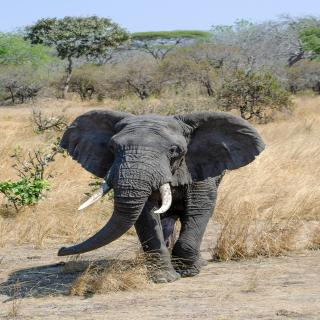Elephant: (42, 102, 270, 284)
